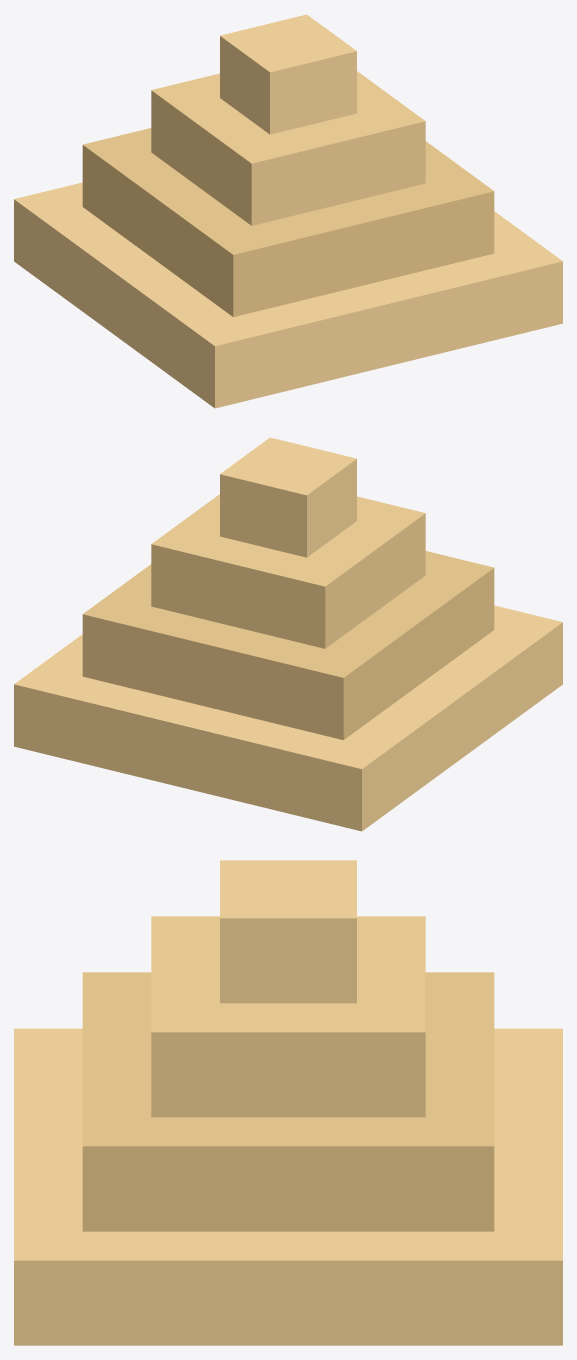
File: giza-queen-step.glb
3 views of the same model, one above another, from view 1: azimuth 30°, elevation 25°; view 2: azimuth 150°, elevation 25°; view 3: azimuth 270°, elevation 25° (orthographic). The views are drawn at different scales.
Size of the model in its own units: 31 by 21.2 by 31.
